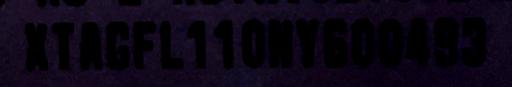letter: (20, 20, 52, 73), (266, 16, 294, 71), (157, 17, 185, 72), (76, 18, 104, 73), (104, 19, 132, 74), (131, 17, 157, 76), (405, 15, 433, 68), (431, 15, 459, 68), (376, 16, 404, 69), (459, 16, 487, 69), (321, 17, 349, 70), (294, 16, 320, 71), (350, 16, 376, 71), (184, 17, 210, 72), (50, 17, 76, 72), (240, 17, 266, 70), (212, 17, 236, 72)
